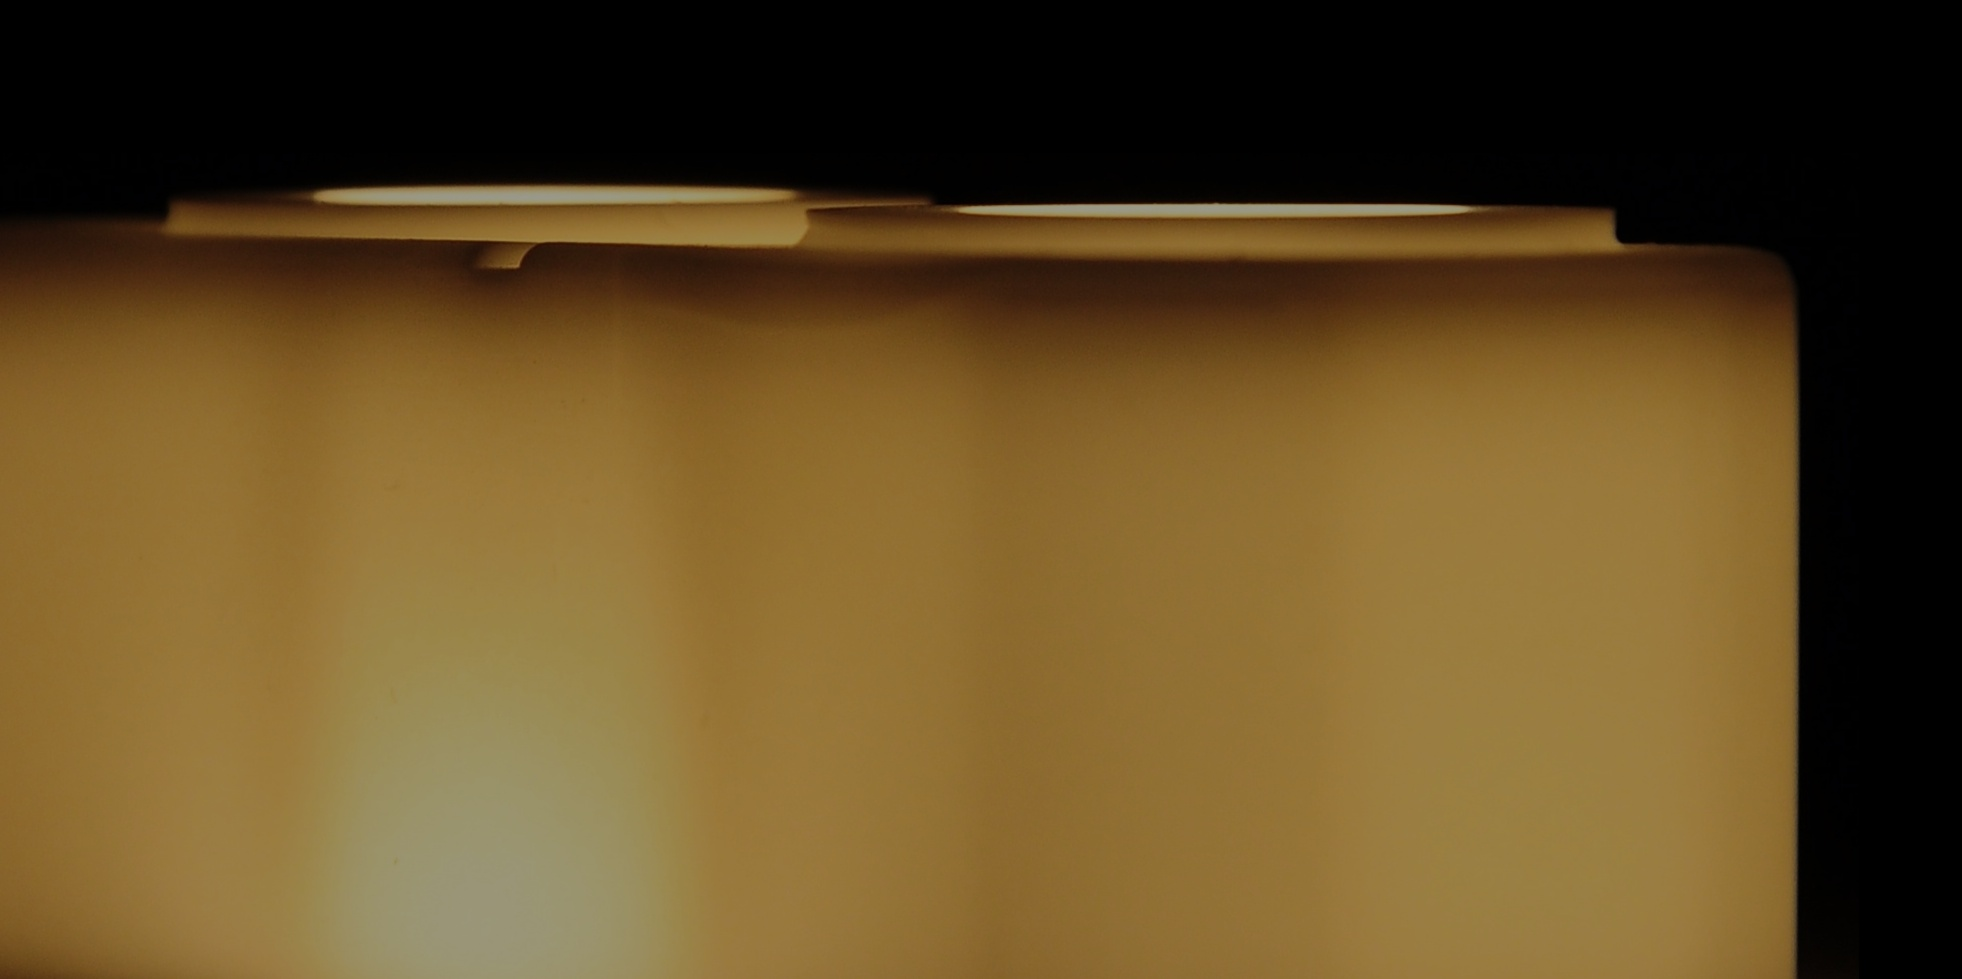flaw: (624, 282, 953, 354)
